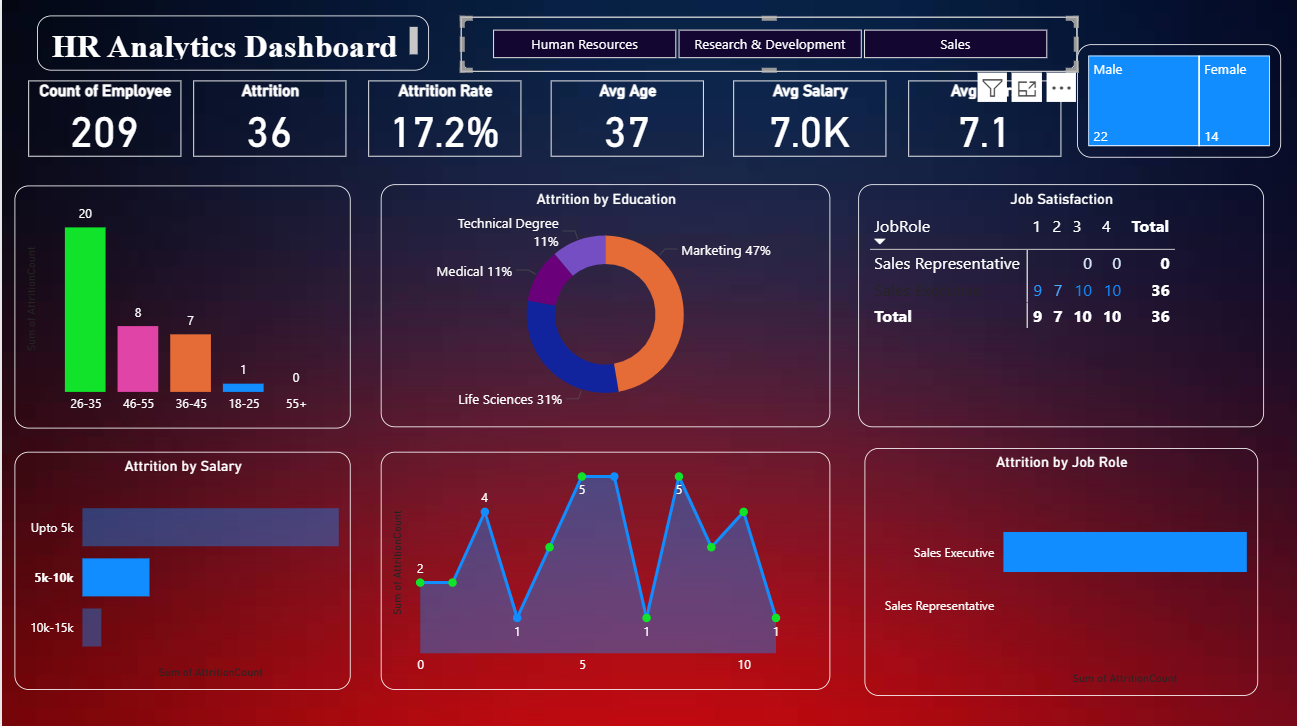

The page's visual inventory and layout, read from the dashboard file:
{"tool":"powerbi","page":{"name":"Page 1","canvas":[1280,720],"ordinal":0},"visuals":[{"type":"card","title":"Count of Employee","fields":{"Values":["CountNonNull(HR_Analytics.EmpID)"]},"box":[26.3,82.1,151,75.5],"z":0},{"type":"card","title":"Attrition","fields":{"Values":["Sum(HR_Analytics.AttritionCount )"]},"box":[188.8,82.1,151,75.5],"z":1000},{"type":"card","title":"Avg Age","fields":{"Values":["Avg(HR_Analytics.Age)"]},"box":[541.7,82.1,151,75.5],"z":2000},{"type":"card","title":"Avg Salary","fields":{"Values":["Avg(HR_Analytics.MonthlyIncome)"]},"box":[722.2,82.1,151,75.5],"z":3000},{"type":"card","title":"Avg Years","fields":{"Values":["Avg(HR_Analytics.YearsAtCompany)"]},"box":[894.6,82.1,151,75.5],"z":4000},{"type":"card","title":"Attrition Rate","fields":{"Values":["HR_Analytics.Attrition Rate"]},"box":[361.1,82.1,151,75.5],"z":5000},{"type":"donutChart","title":"Attrition  by Education","fields":{"Category":["HR_Analytics.EducationField"],"Y":["Sum(HR_Analytics.AttritionCount )"]},"box":[374,183.4,444,240.1],"z":6000},{"type":"columnChart","title":"Attrition  by Education","fields":{"Category":["HR_Analytics.AgeGroup"],"Y":["Sum(HR_Analytics.AttritionCount )"]},"box":[12.1,184.6,331.8,240.1],"z":7000},{"type":"pivotTable","title":"Job Satisfaction","fields":{"Columns":["HR_Analytics.JobSatisfaction"],"Rows":["HR_Analytics.JobRole"],"Values":["Sum(HR_Analytics.AttritionCount )"]},"box":[845.3,183.8,400.5,239.7],"z":8000},{"type":"barChart","title":"Attrition  by Job Role ","fields":{"Y":["Sum(HR_Analytics.AttritionCount )"],"Category":["HR_Analytics.JobRole"]},"box":[851.7,444,388.5,244.9],"z":9000},{"type":"barChart","title":"Attrition  by Salary","fields":{"Y":["Sum(HR_Analytics.AttritionCount )"],"Category":["HR_Analytics.SalarySlab"]},"box":[12.1,447.6,331.8,235.3],"z":10000},{"type":"areaChart","title":"Attrition  by Education","fields":{"Category":["HR_Analytics.YearsAtCompany"],"Y":["Sum(HR_Analytics.AttritionCount )"]},"box":[374,447.6,444,235.3],"z":11000},{"type":"treemap","title":"Attrition  by Education","fields":{"Group":["HR_Analytics.Gender"],"Values":["Sum(HR_Analytics.AttritionCount )"]},"box":[1062,46,201.9,111.6],"z":12000},{"type":"slicer","fields":{"Values":["HR_Analytics.Department"]},"box":[453,18.1,609,54.2],"z":13000},{"type":"textbox","box":[35,16.9,387.3,54.3],"z":13001}]}

Visuals, with their boxes in screenshot pixels (x1, y1, x2, y2), scaled from the page's 1280x720 canvas onto the 1297x726 screenshot:
"Count of Employee" card: Rect(27, 83, 180, 159)
"Attrition" card: Rect(191, 83, 344, 159)
"Avg Age" card: Rect(549, 83, 702, 159)
"Avg Salary" card: Rect(732, 83, 885, 159)
"Avg Years" card: Rect(906, 83, 1059, 159)
"Attrition Rate" card: Rect(366, 83, 519, 159)
"Attrition  by Education" donutChart: Rect(379, 185, 829, 427)
"Attrition  by Education" columnChart: Rect(12, 186, 348, 428)
"Job Satisfaction" pivotTable: Rect(857, 185, 1262, 427)
"Attrition  by Job Role " barChart: Rect(863, 448, 1257, 695)
"Attrition  by Salary" barChart: Rect(12, 451, 348, 689)
"Attrition  by Education" areaChart: Rect(379, 451, 829, 689)
"Attrition  by Education" treemap: Rect(1076, 46, 1281, 159)
slicer - HR_Analytics.Department: Rect(459, 18, 1076, 73)
textbox: Rect(35, 17, 428, 72)
